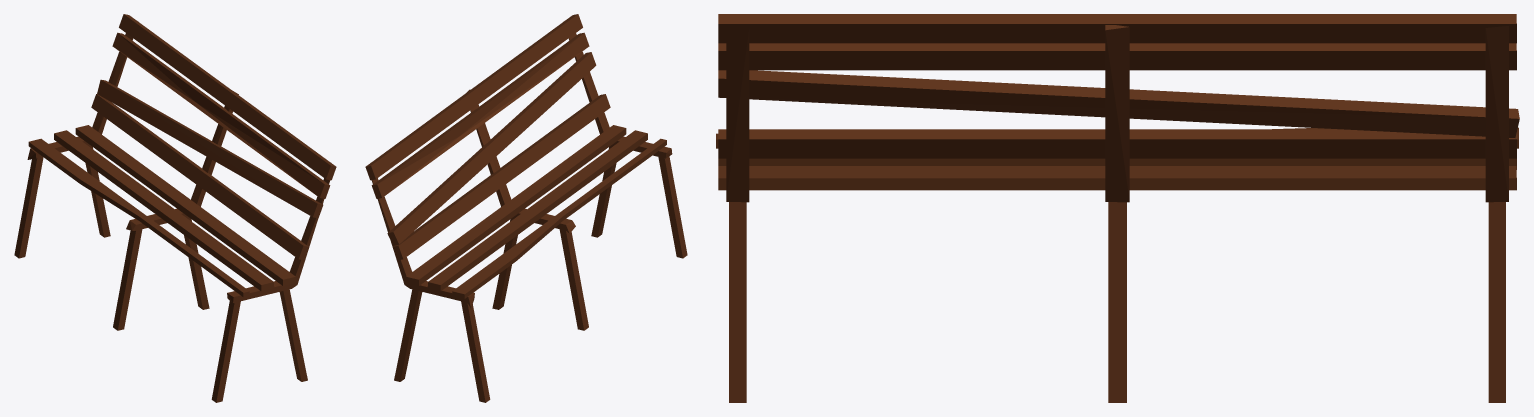
Rendered from Model_Lawka2.fbx.
3 renders of one model, left to right at view 1: azimuth 30°, elevation 25°; view 2: azimuth 150°, elevation 25°; view 3: azimuth 270°, elevation 25°, orthographic. The views are drawn at different scales.
Parts seen in each view (by area): view 1: Cube.008; view 2: Cube.008; view 3: Cube.008.
Part boxes in pixels (x1,y1,x2,y2): Cube.008: [14, 14, 336, 402]; Cube.008: [365, 14, 687, 402]; Cube.008: [716, 14, 1519, 402].
Size of the model in its own units: 232 by 130 by 77.44.
